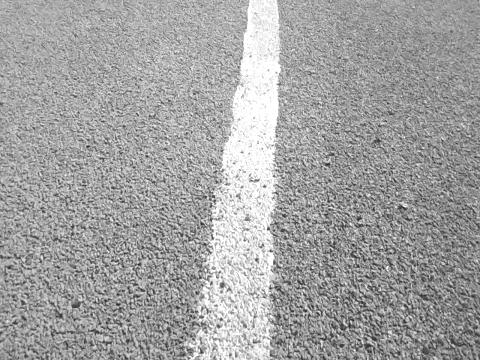Lines: (189, 0, 283, 360)
